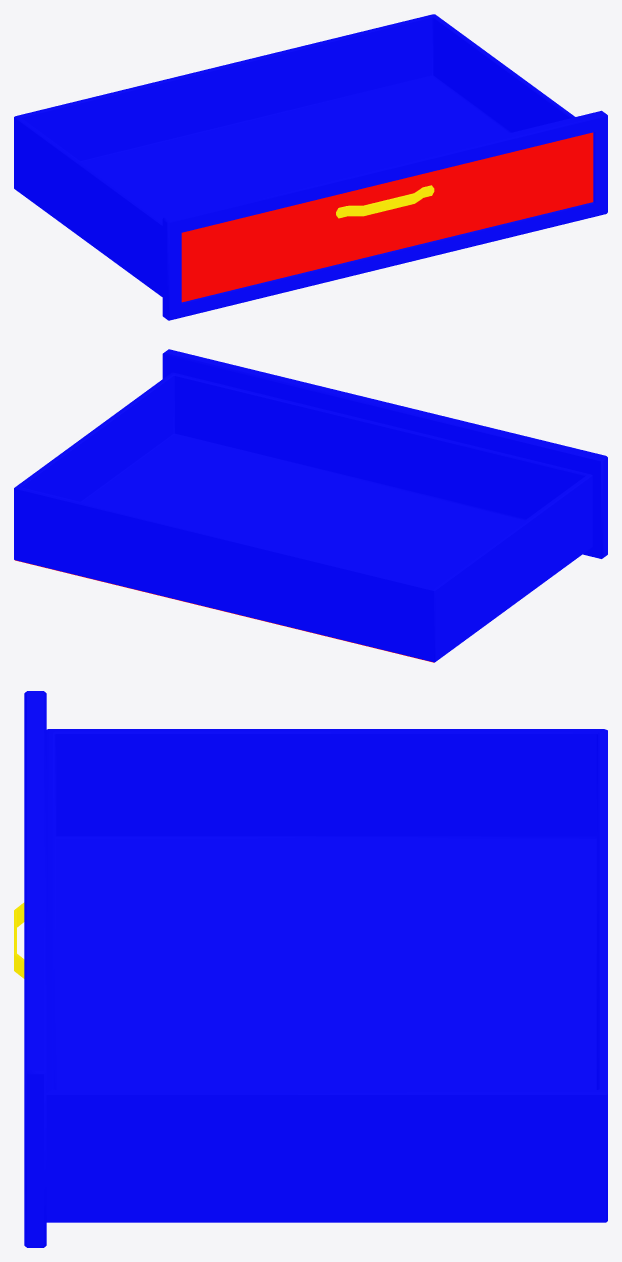
The model's file is K_Schublade3.fbx.
The picture shows the model from 3 angles, top to bottom: view 1: azimuth 30°, elevation 25°; view 2: azimuth 150°, elevation 25°; view 3: azimuth 270°, elevation 25°; orthographic projection. The views are drawn at different scales.
Parts seen in each view (by area): view 1: Schublade3; view 2: Schublade3; view 3: Schublade3.
Part boxes in pixels (x1,y1,x2,y2): Schublade3: [14, 14, 607, 320]; Schublade3: [14, 349, 607, 662]; Schublade3: [14, 691, 607, 1247].
Bounding box in the file's own units: 79.82 × 17.27 × 52.45.
